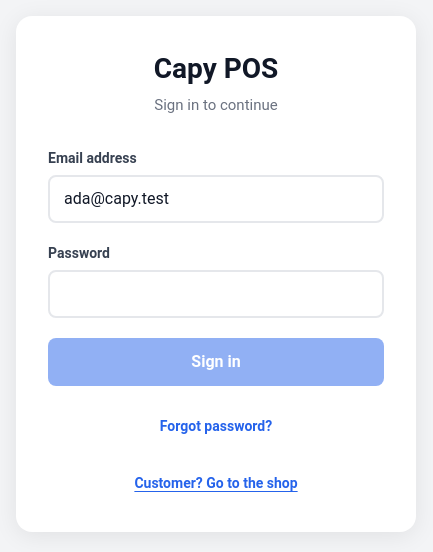
Test: LoginComponent — forgot password › offers the link when the active gateway supports it, and opens the panel with the typed email carried over
Step 1. Click the button with test id "btn-forgot-password" → (216, 427), box x1=154 y1=410 x2=278 y2=443
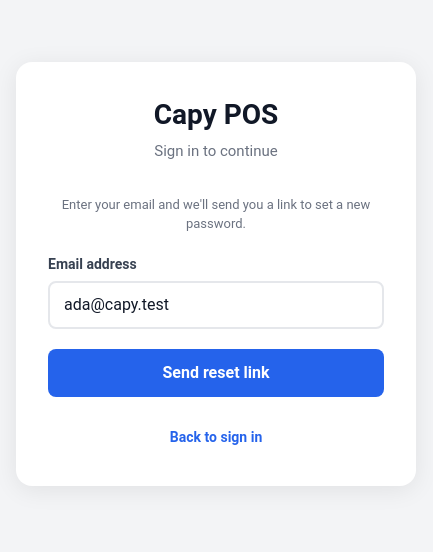
Expected: the form with test id "forgot-password-form" is shown, x1=48 y1=195 x2=384 y2=454
